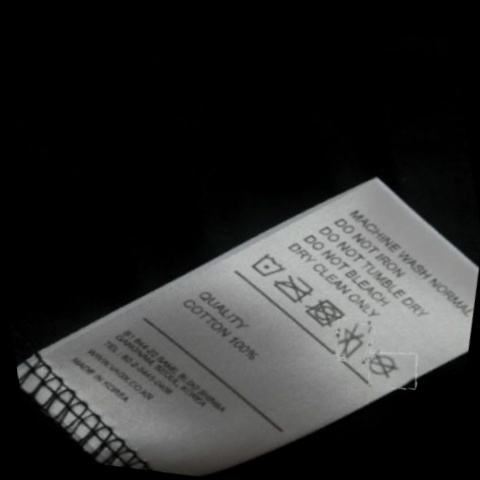30C: (252, 250, 285, 279)
DN_bleach: (336, 323, 374, 360)
DN_dry_clean: (366, 351, 401, 382)
DN_iron: (277, 272, 317, 307)
DN_tumble_dry: (306, 294, 348, 330)
